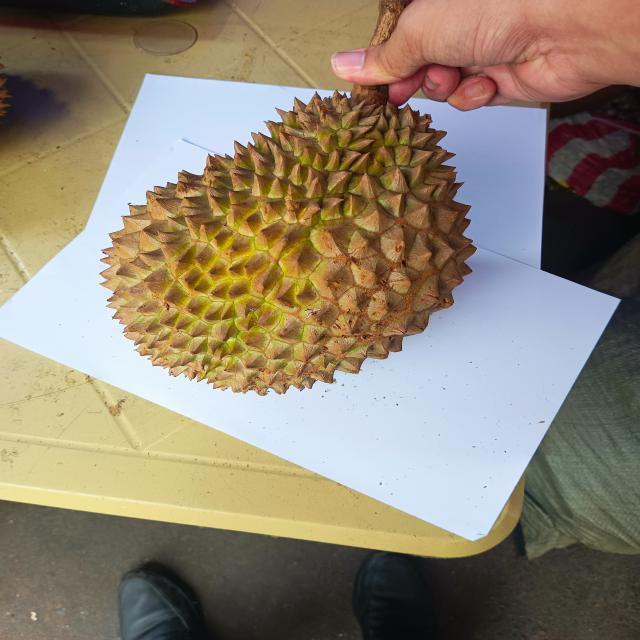mature: (96, 81, 476, 395)
